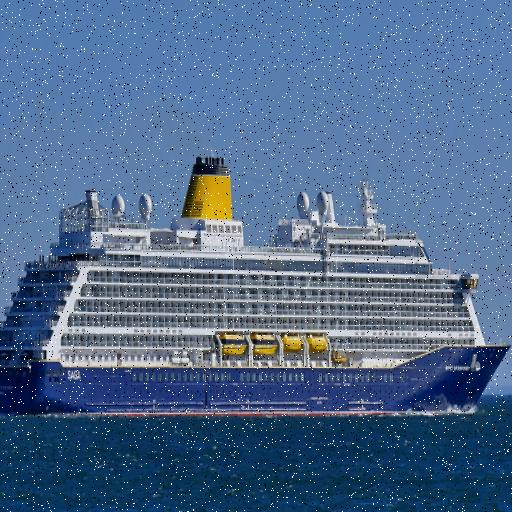cruises: (1, 149, 512, 426)
